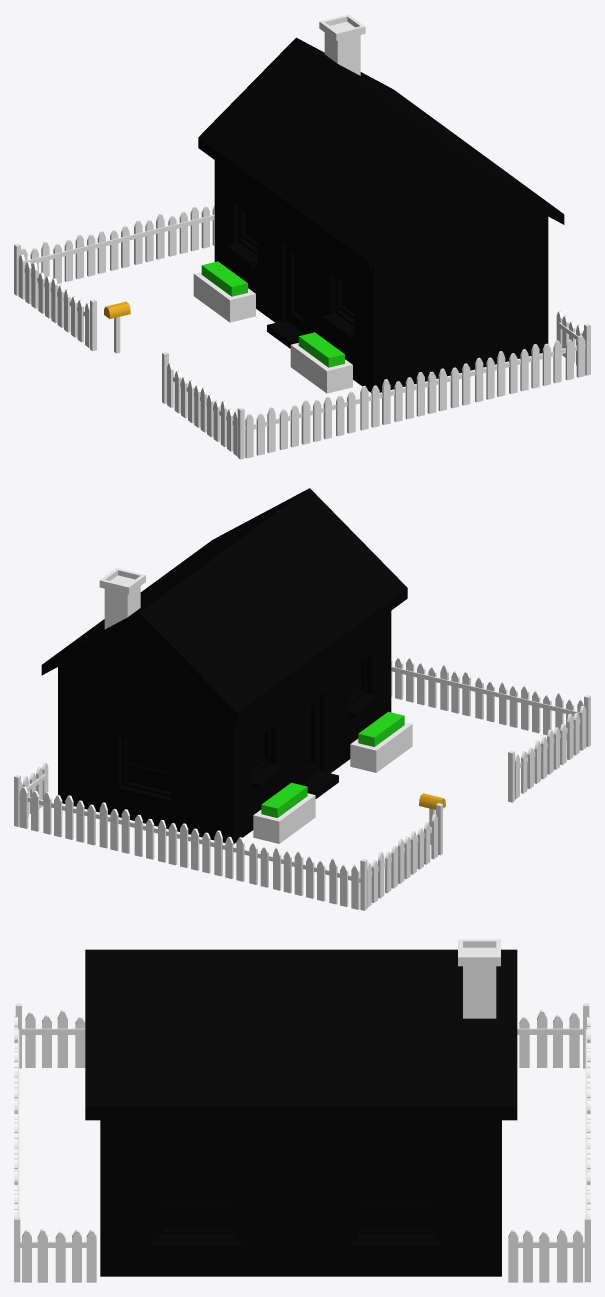
Rendered from House_02.FBX.
3 renders of one model, top to bottom at view 1: azimuth 30°, elevation 25°; view 2: azimuth 150°, elevation 25°; view 3: azimuth 270°, elevation 25°, orthographic. The views are drawn at different scales.
Parts seen in each view (by area): view 1: House_02; view 2: House_02; view 3: House_02.
Part boxes in pixels (bbox=[...]): House_02: bbox=[14, 14, 590, 459]; House_02: bbox=[14, 488, 590, 910]; House_02: bbox=[14, 939, 590, 1282].
Size of the model in its own units: 17.11 by 10.78 by 19.19.
